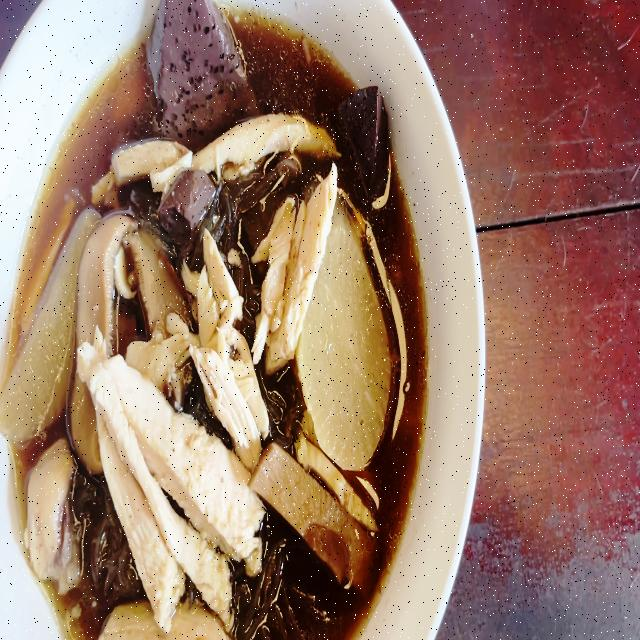boiled_chicken_blood_jelly: (140, 0, 258, 125), (344, 83, 388, 189), (158, 173, 210, 230)
chicken_shredded: (70, 348, 254, 622), (193, 243, 270, 457), (260, 169, 337, 362), (184, 112, 330, 179), (26, 450, 78, 570), (110, 134, 190, 184)
daikon_radish: (1, 221, 80, 446), (306, 257, 392, 460)
noodle: (0, 12, 425, 640)
